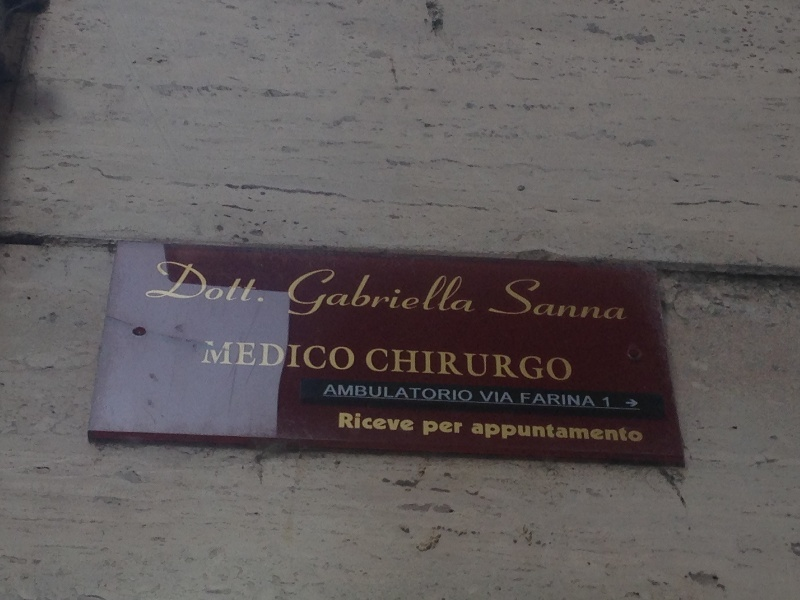text: (513, 273, 528, 323), (529, 273, 544, 323), (545, 273, 560, 323), (561, 273, 576, 323), (577, 273, 592, 323), (593, 273, 608, 323), (609, 273, 624, 323), (305, 267, 320, 316), (321, 267, 336, 316), (337, 267, 352, 316), (353, 267, 368, 316), (369, 267, 384, 316), (385, 267, 400, 316), (401, 267, 416, 316), (417, 267, 432, 316), (433, 267, 448, 316), (449, 267, 464, 316), (161, 257, 176, 304), (177, 257, 192, 304), (193, 257, 208, 304), (209, 257, 224, 304), (225, 257, 240, 304), (241, 257, 256, 304), (291, 267, 304, 316), (369, 347, 384, 382), (385, 347, 400, 382), (401, 347, 416, 382), (417, 347, 432, 382), (433, 347, 448, 382), (449, 347, 464, 382), (465, 347, 480, 382), (481, 347, 496, 382), (497, 347, 512, 382), (513, 347, 528, 382), (529, 347, 544, 382), (545, 347, 560, 382), (465, 267, 475, 316), (209, 341, 224, 372), (225, 341, 240, 372), (241, 341, 256, 372), (257, 341, 272, 372), (273, 341, 288, 372), (289, 341, 304, 372), (305, 341, 320, 372), (321, 341, 336, 372), (337, 341, 352, 372), (561, 347, 572, 382), (481, 422, 496, 447), (497, 422, 512, 447), (513, 422, 528, 447), (529, 422, 544, 447), (545, 422, 560, 447), (561, 422, 576, 447), (577, 422, 592, 447), (593, 422, 608, 447), (609, 422, 624, 447), (625, 422, 640, 447), (337, 412, 352, 434), (353, 412, 368, 434), (369, 412, 384, 434), (385, 412, 400, 434), (257, 257, 264, 304), (401, 412, 415, 434), (506, 273, 512, 323), (337, 385, 352, 402), (353, 385, 368, 402), (369, 385, 384, 402), (385, 385, 400, 402), (401, 385, 416, 402), (417, 385, 432, 402), (433, 385, 448, 402), (449, 385, 464, 402), (481, 390, 496, 405), (497, 390, 512, 405), (529, 393, 544, 408), (545, 393, 560, 408), (561, 393, 576, 408), (577, 393, 592, 408), (433, 421, 448, 436), (449, 421, 464, 436), (472, 422, 480, 447), (203, 341, 208, 372), (328, 385, 336, 402), (465, 385, 473, 402), (423, 421, 432, 436), (521, 393, 528, 408), (625, 273, 627, 323), (601, 395, 608, 409), (353, 341, 356, 372), (641, 422, 644, 447), (366, 347, 368, 382), (593, 393, 597, 408), (478, 390, 480, 405), (513, 390, 515, 405), (609, 395, 611, 409)
